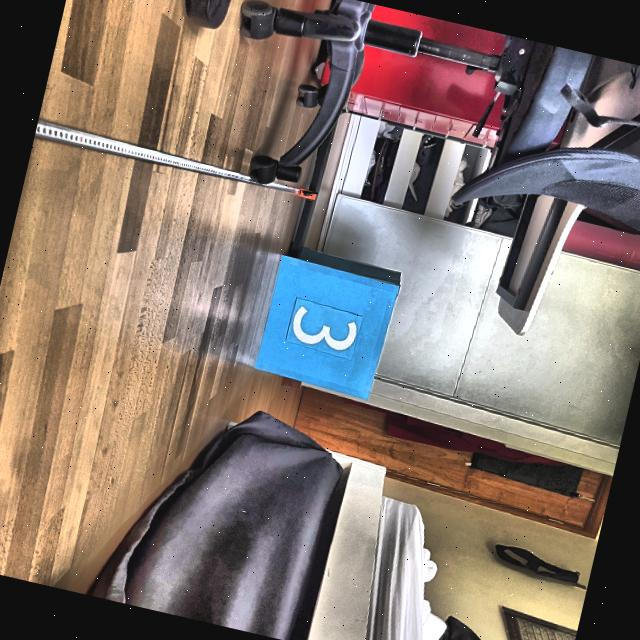blue box: (252, 238, 402, 402)
three: (286, 302, 362, 356)
